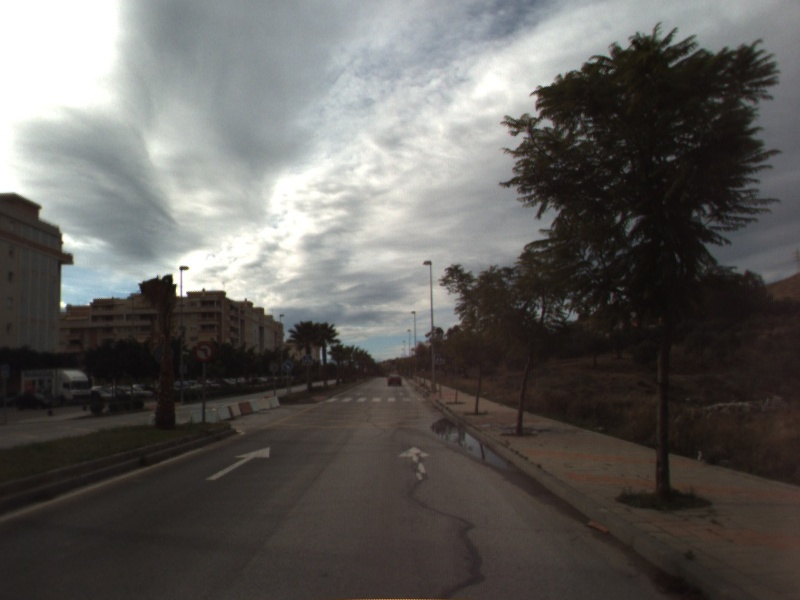STRAIGHT: (203, 444, 272, 482), (396, 443, 434, 483)
